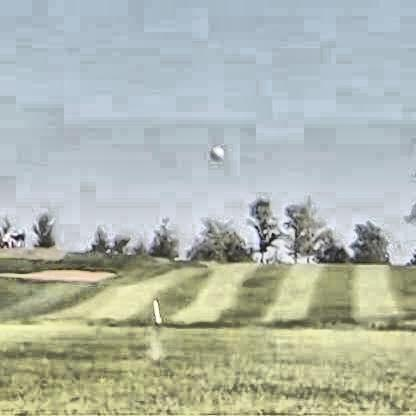golfball: (206, 142, 221, 160)
